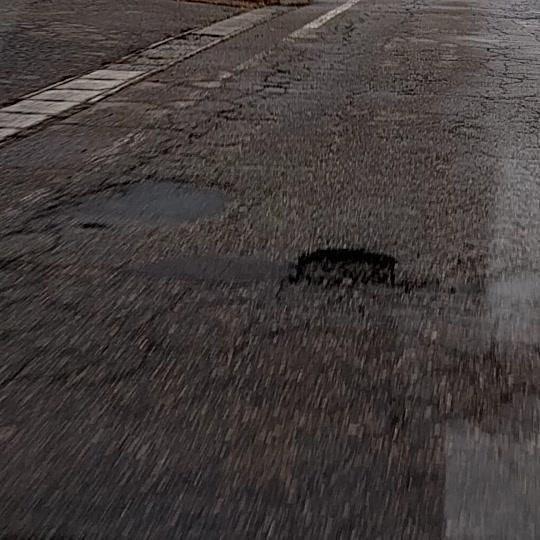pothole: (289, 248, 396, 289)
